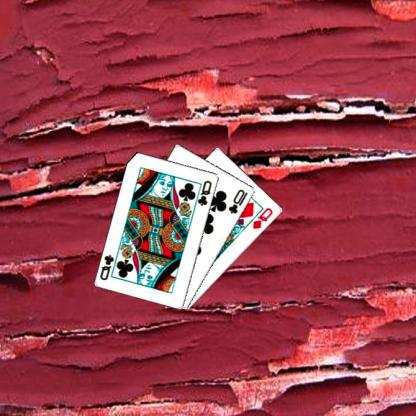10C: (228, 186, 251, 215)
QC: (100, 252, 118, 281), (197, 178, 215, 206)
QD: (252, 205, 276, 230)
